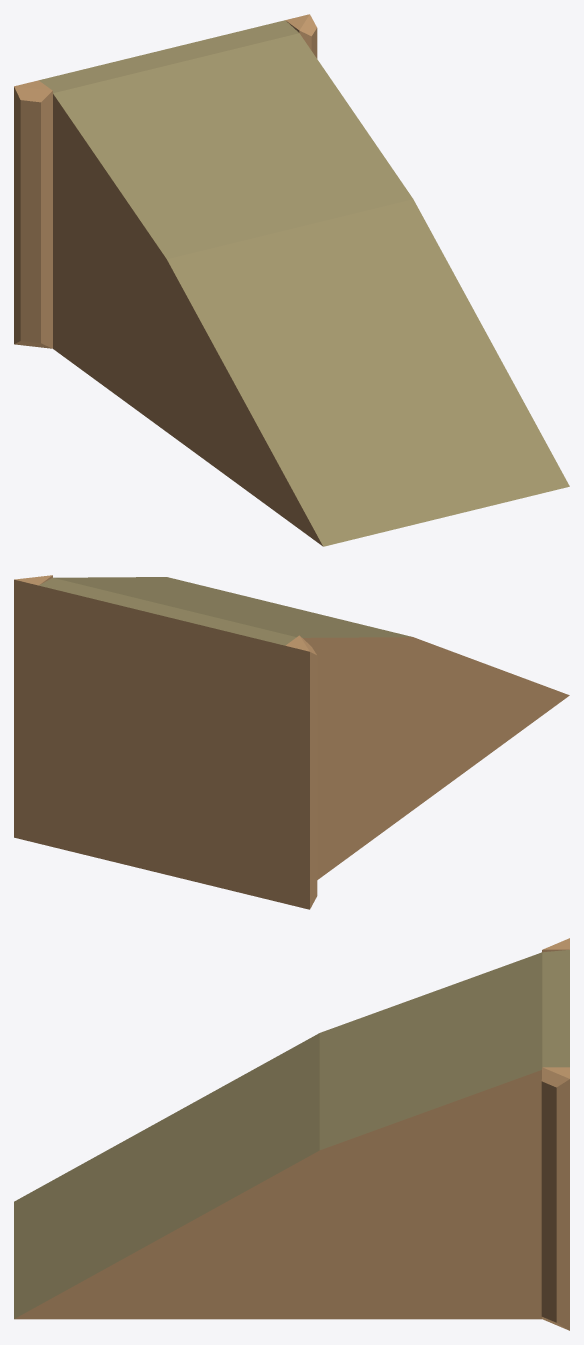
Rendered from Ramp01.gltf.
3 renders of one model, top to bottom at view 1: azimuth 30°, elevation 25°; view 2: azimuth 150°, elevation 25°; view 3: azimuth 270°, elevation 25°, orthographic. The views are drawn at different scales.
Parts seen in each view (by area): view 1: Ramp01b_mainmodel_nohitbox, Ramp01d_decoration_nohitbox, Ramp01c_decoration_nohitbox; view 2: Ramp01b_mainmodel_nohitbox, Ramp01d_decoration_nohitbox, Ramp01c_decoration_nohitbox; view 3: Ramp01b_mainmodel_nohitbox, Ramp01c_decoration_nohitbox.
Part boxes in pixels (x1=…): Ramp01b_mainmodel_nohitbox: x1=39, y1=20, x2=569, y2=546; Ramp01d_decoration_nohitbox: x1=14, y1=80, x2=52, y2=348; Ramp01c_decoration_nohitbox: x1=285, y1=14, x2=317, y2=58; Ramp01b_mainmodel_nohitbox: x1=38, y1=577, x2=569, y2=903; Ramp01d_decoration_nohitbox: x1=285, y1=635, x2=317, y2=909; Ramp01c_decoration_nohitbox: x1=14, y1=575, x2=52, y2=843; Ramp01b_mainmodel_nohitbox: x1=14, y1=949, x2=569, y2=1319; Ramp01c_decoration_nohitbox: x1=541, y1=1067, x2=569, y2=1330.
Size of what is drawn, in the model's own units: 1.2 by 1 by 2.
